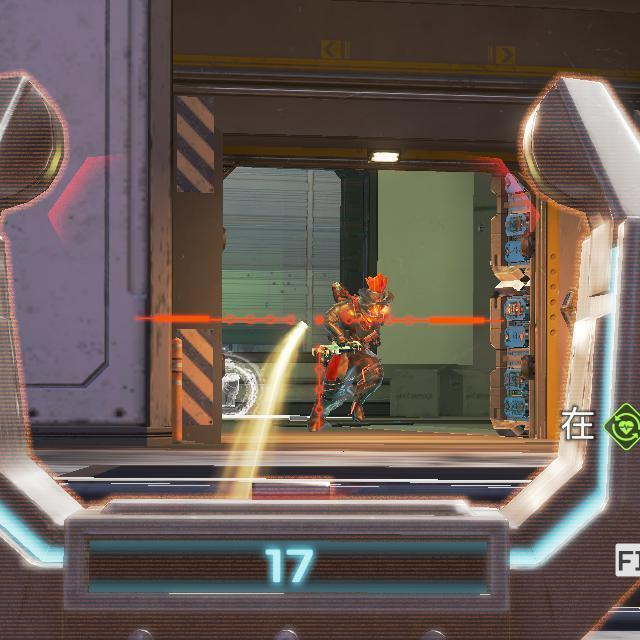avatar: (303, 268, 396, 434)
